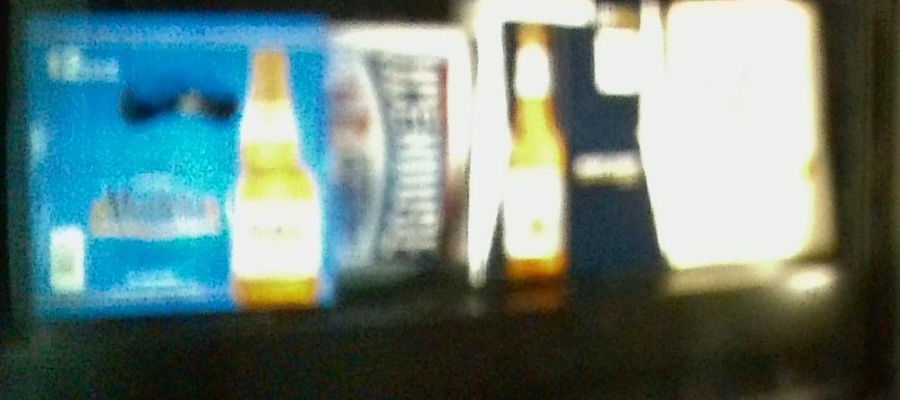bottle: (9, 13, 336, 312), (469, 2, 666, 285), (668, 4, 836, 273), (332, 24, 467, 291)
